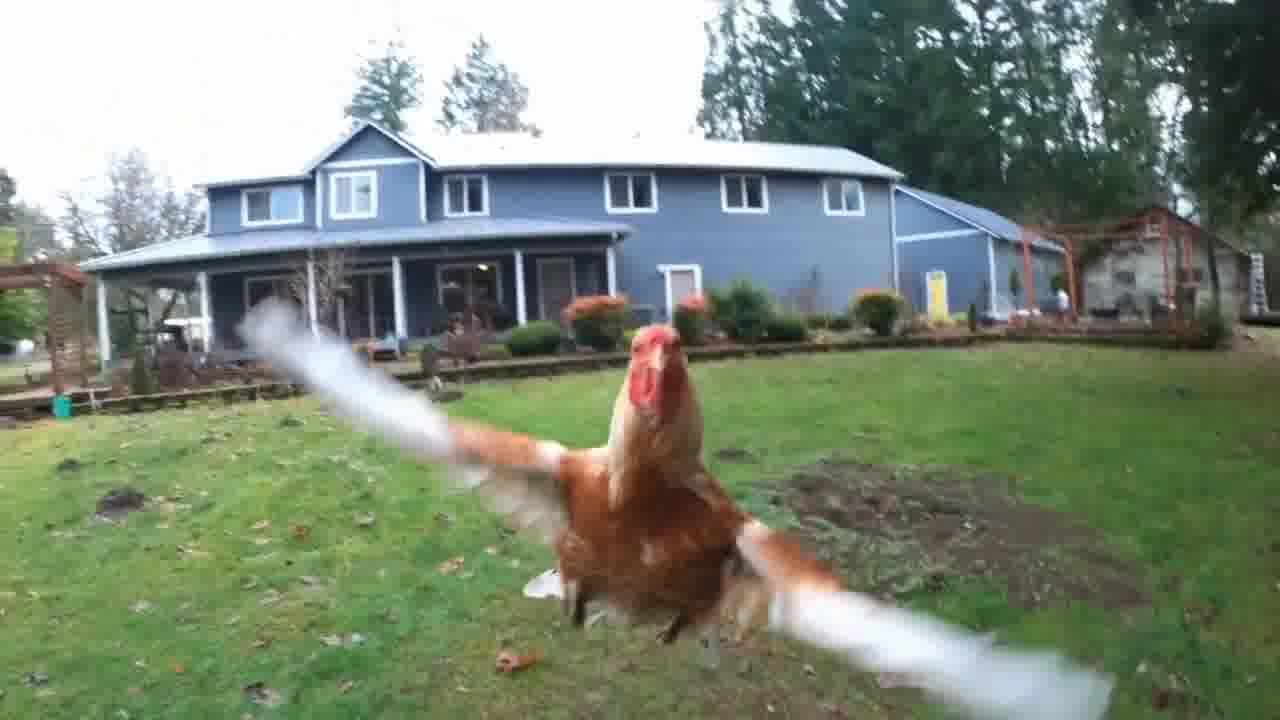Normal: (506, 312, 836, 676)
